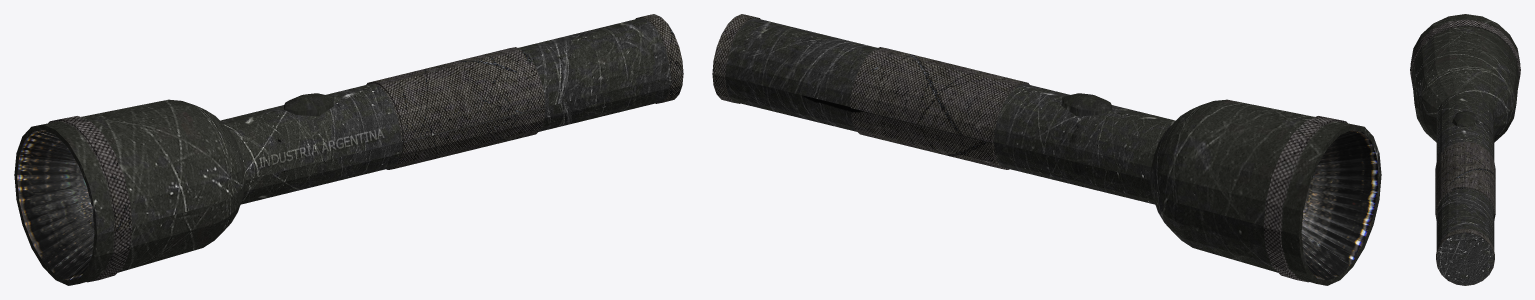
Rendered from FlashLight.obj.
3 renders of one model, left to right at view 1: azimuth 30°, elevation 25°; view 2: azimuth 150°, elevation 25°; view 3: azimuth 270°, elevation 25°, orthographic. The views are drawn at different scales.
Visible parts, largest first — view 1: Sphere, Sphere.001; view 2: Sphere, Sphere.001; view 3: Sphere, Sphere.001.
Boxes of the visible parts, left/top/right/bottom form: Sphere: left=14, top=14, right=683, bottom=285; Sphere.001: left=284, top=93, right=333, bottom=116; Sphere: left=712, top=14, right=1381, bottom=285; Sphere.001: left=1062, top=93, right=1111, bottom=116; Sphere: left=1410, top=14, right=1520, bottom=285; Sphere.001: left=1452, top=110, right=1478, bottom=127.
Bounding box in the file's own units: 8.89 × 2.13 × 2.13.
Materials: 1 (1 with a texture image).
